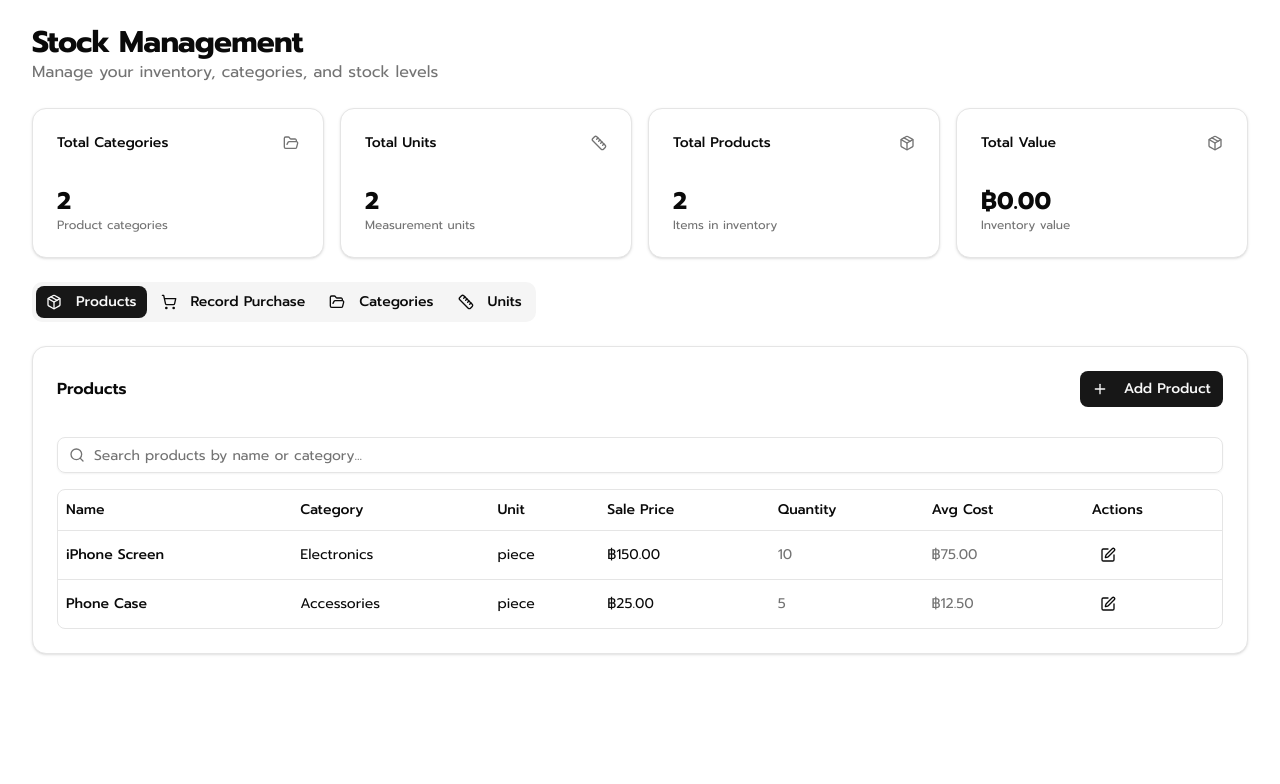
Test: StockPage - Purchase Recording › displays purchase recording form with correct fields
Click the button "Record Purchase". click: coordinates (233, 302)
box: [150,286,315,318]
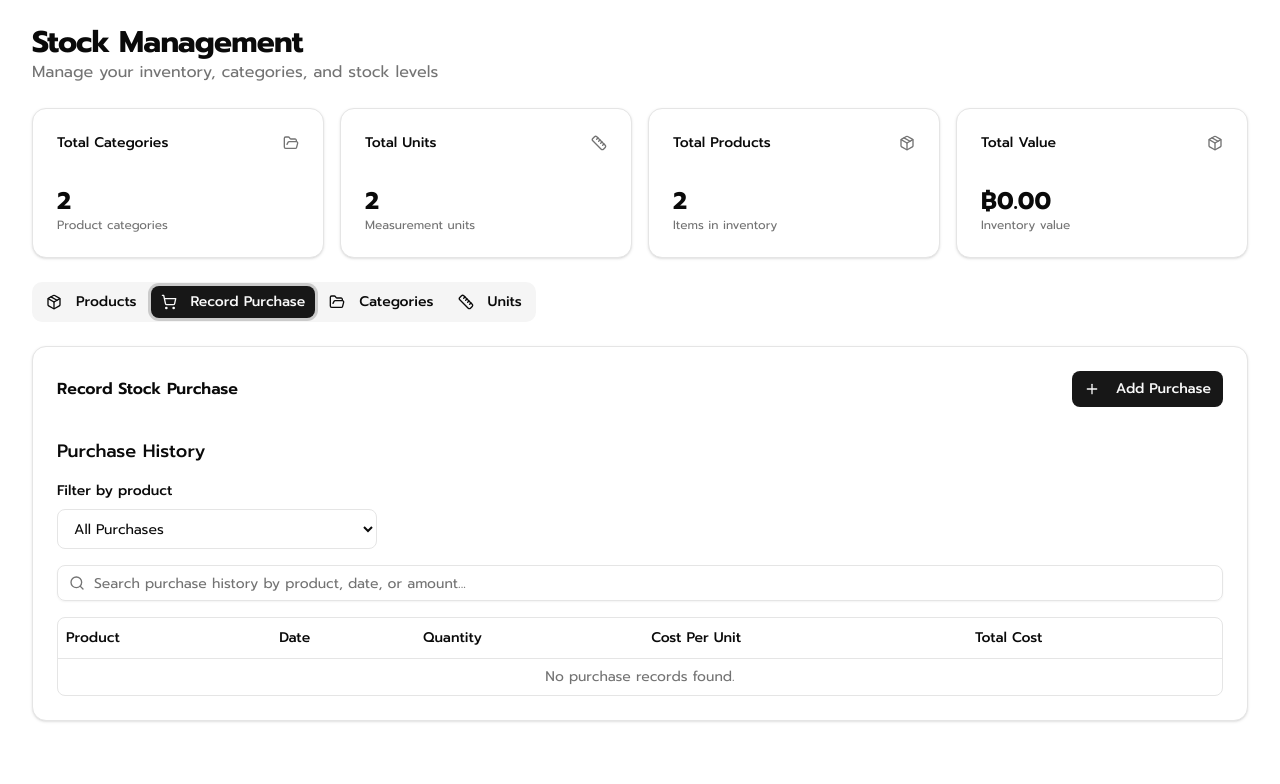
Click the button "Add Purchase". click: coordinates (1147, 389)
box: [1072,371,1223,407]
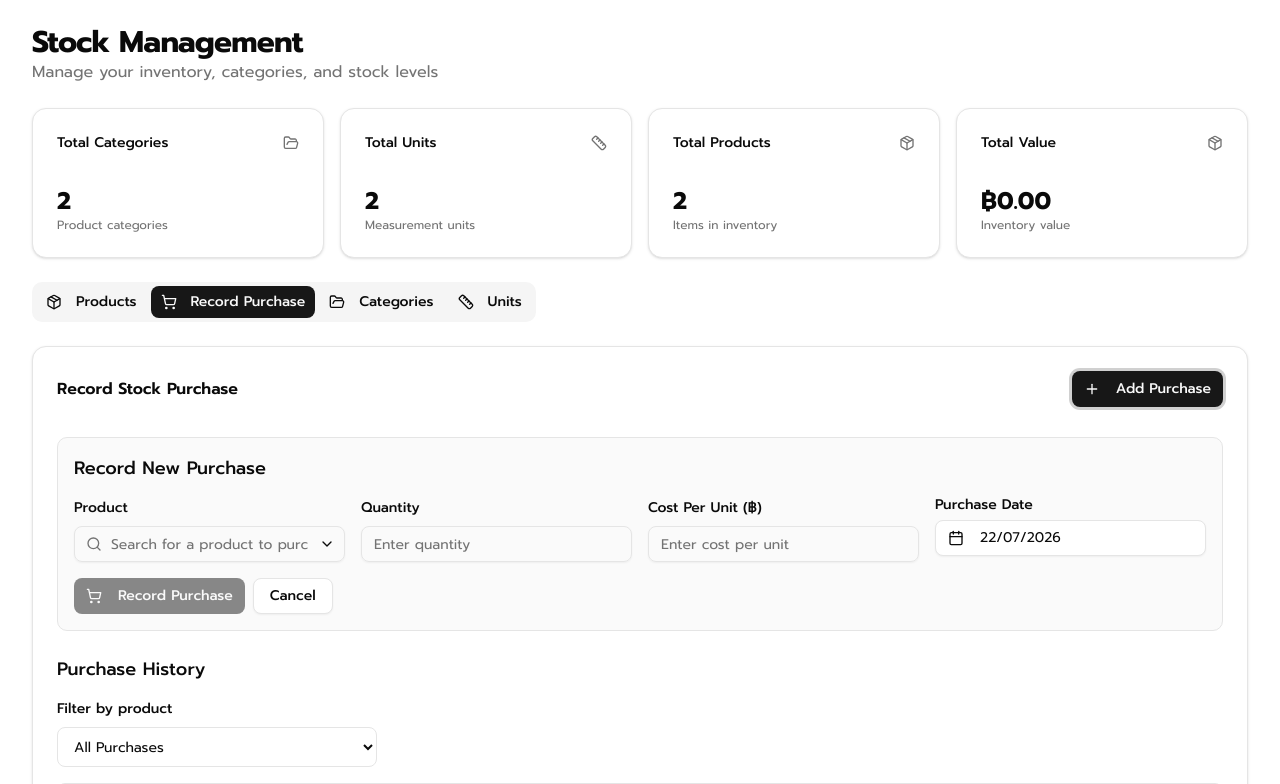
expect the form is shown: met, box [74,498,1206,614]
expect the search field with placeholder "Search for a product to purchase..." is shown: met, box [74,526,345,562]
expect the number field with placeholder "Enter quantity" is shown: met, box [361,526,632,562]
